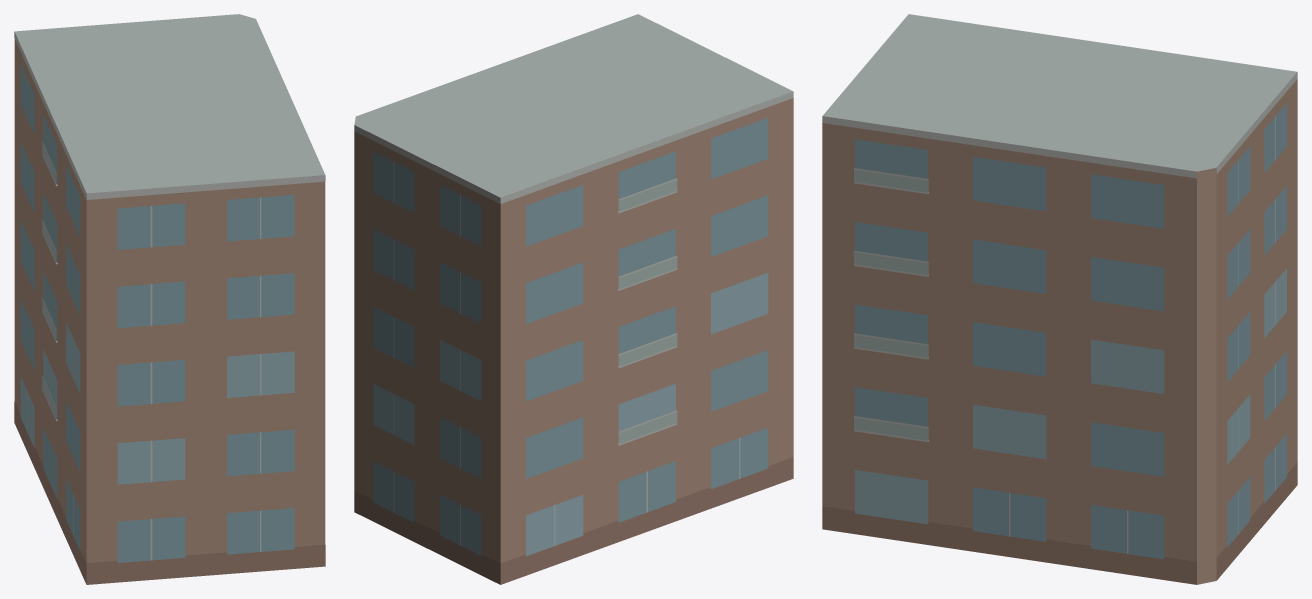
File: survey-upis-32708262.glb
The picture shows the model from 3 angles, left to right: view 1: azimuth 30°, elevation 25°; view 2: azimuth 150°, elevation 25°; view 3: azimuth 270°, elevation 25°; orthographic projection. The views are drawn at different scales.
Visible parts, largest first — view 1: survey-upis-32708262.tmp; view 2: survey-upis-32708262.tmp; view 3: survey-upis-32708262.tmp.
Part boxes in pixels (x1,y1,x2,y2): survey-upis-32708262.tmp: (14, 14, 325, 584); survey-upis-32708262.tmp: (354, 14, 793, 584); survey-upis-32708262.tmp: (822, 14, 1297, 584).
Bounding box in the file's own units: 12 × 14.65 × 15.28.
